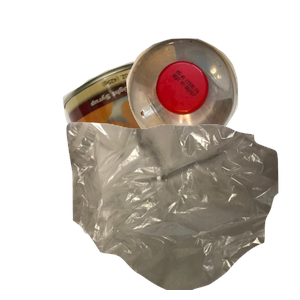glass: (73, 153, 284, 300)
metal: (60, 58, 300, 238)
plastic: (124, 36, 300, 175)
trash: (64, 120, 300, 300)
